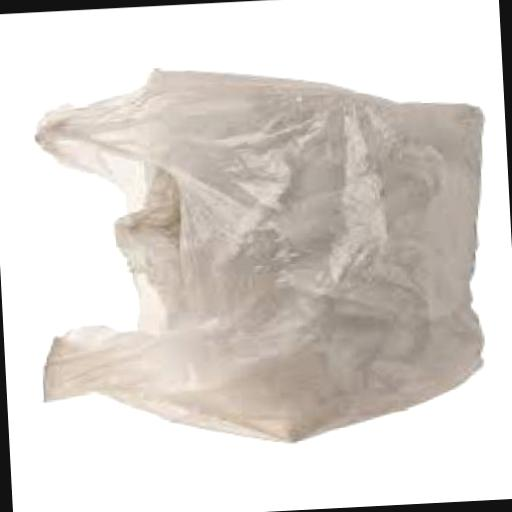plastic: (24, 52, 500, 453)
